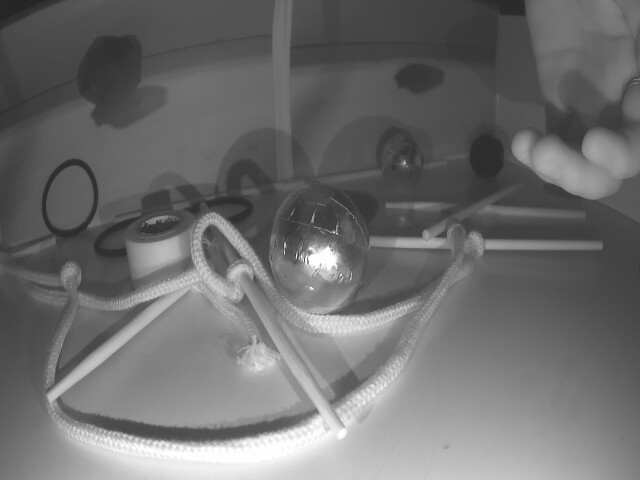Dead: (473, 132, 503, 178)
Live: (271, 187, 365, 312), (383, 133, 420, 189)
